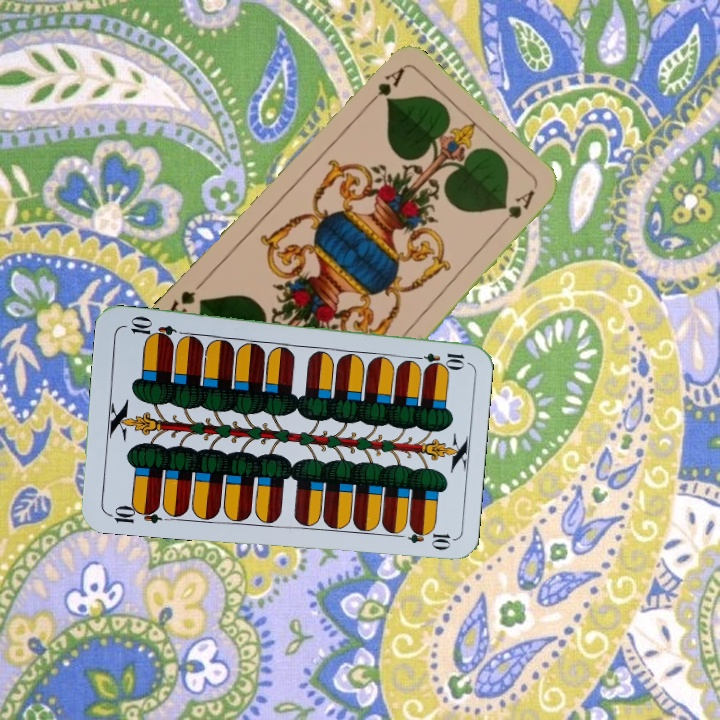E10: (104, 500, 163, 526), (408, 349, 467, 368)
GA: (360, 64, 407, 111)
